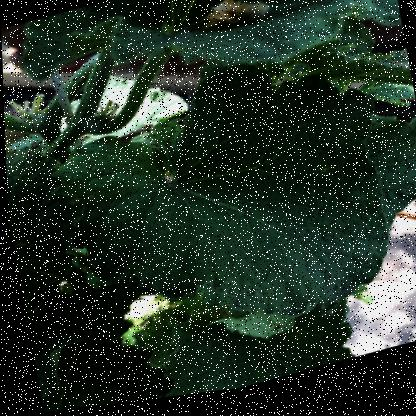Normal: (44, 39, 400, 377)
